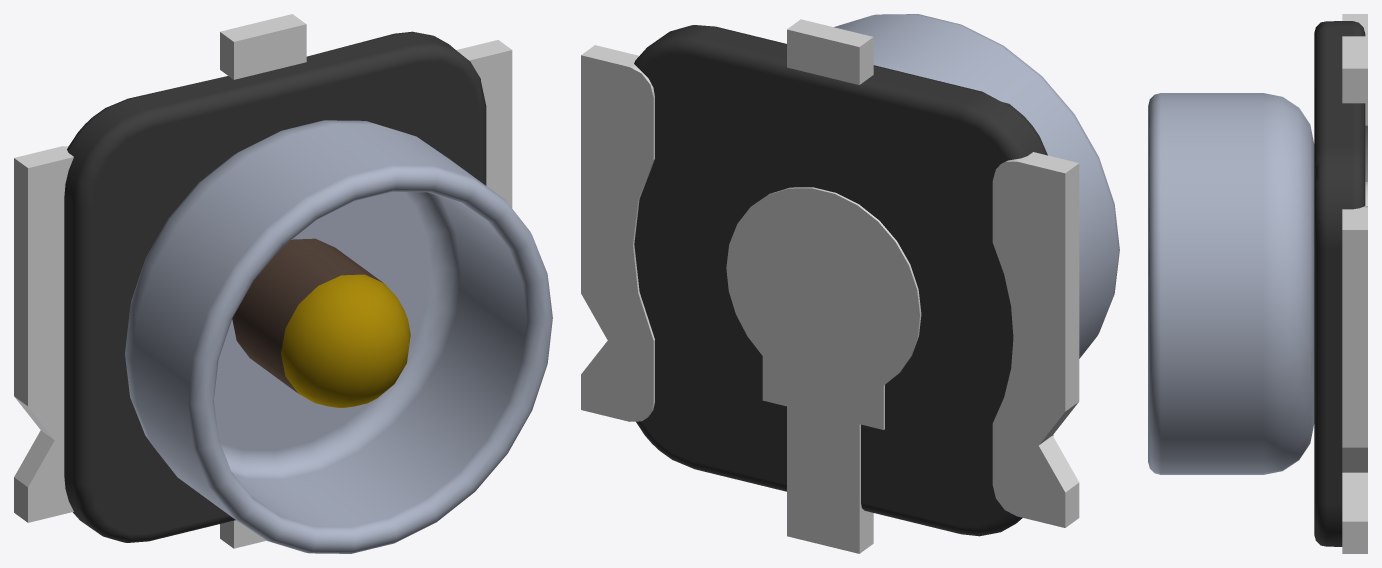
The model's file is ECT_ECT818000500.3dmodel.glb.
3 renders of one model, left to right at view 1: azimuth 30°, elevation 25°; view 2: azimuth 150°, elevation 25°; view 3: azimuth 270°, elevation 25°, orthographic. The views are drawn at different scales.
Parts seen in each view (by area): view 1: =>[0:1:1:1]; view 2: =>[0:1:1:1]; view 3: =>[0:1:1:1].
Part boxes in pixels (left/top/right/bottom): =>[0:1:1:1]: left=14, top=14, right=552, bottom=553; =>[0:1:1:1]: left=581, top=14, right=1119, bottom=553; =>[0:1:1:1]: left=1148, top=14, right=1367, bottom=553.
Size of the model in its own units: 2 by 2 by 0.86.
